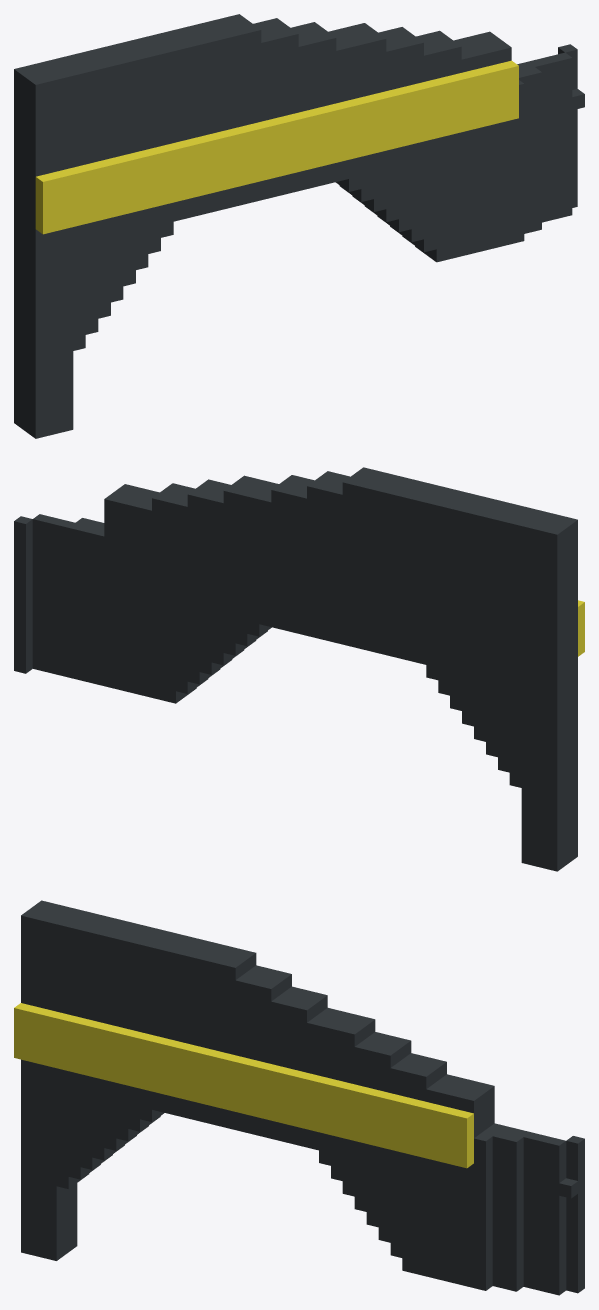
File: security_van_front_wing.glb
3 views of the same model, one above another, from view 1: azimuth 30°, elevation 25°; view 2: azimuth 150°, elevation 25°; view 3: azimuth 330°, elevation 25° (orthographic). The views are drawn at different scales.
Visible parts, largest first — view 1: body:compound; view 2: body:compound; view 3: body:compound.
Boxes of the visible parts, x1,y1,x2,y2 form: body:compound: (14, 14, 584, 438); body:compound: (14, 467, 584, 871); body:compound: (14, 900, 584, 1295).
Size of the model in its own units: 1.41 by 0.8438 by 0.1562.
